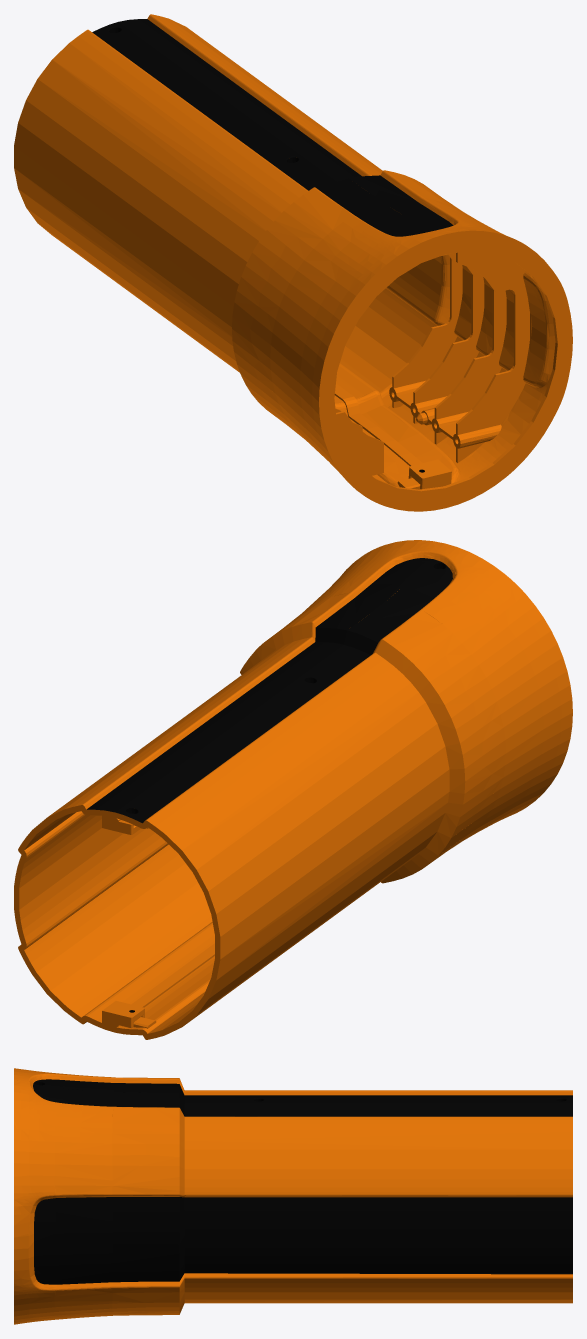
3 renders of one model, top to bottom at view 1: azimuth 30°, elevation 25°; view 2: azimuth 150°, elevation 25°; view 3: azimuth 270°, elevation 25°, orthographic. The views are drawn at different scales.
Parts seen in each view (by area): view 1: bollard; view 2: bollard; view 3: bollard.
Part boxes in pixels (x1,y1,x2,y2): bollard: (14, 14, 572, 511); bollard: (14, 540, 572, 1039); bollard: (14, 1068, 572, 1324).
Bounding box in the file's own units: 0.1933 × 0.1993 × 0.4317.
